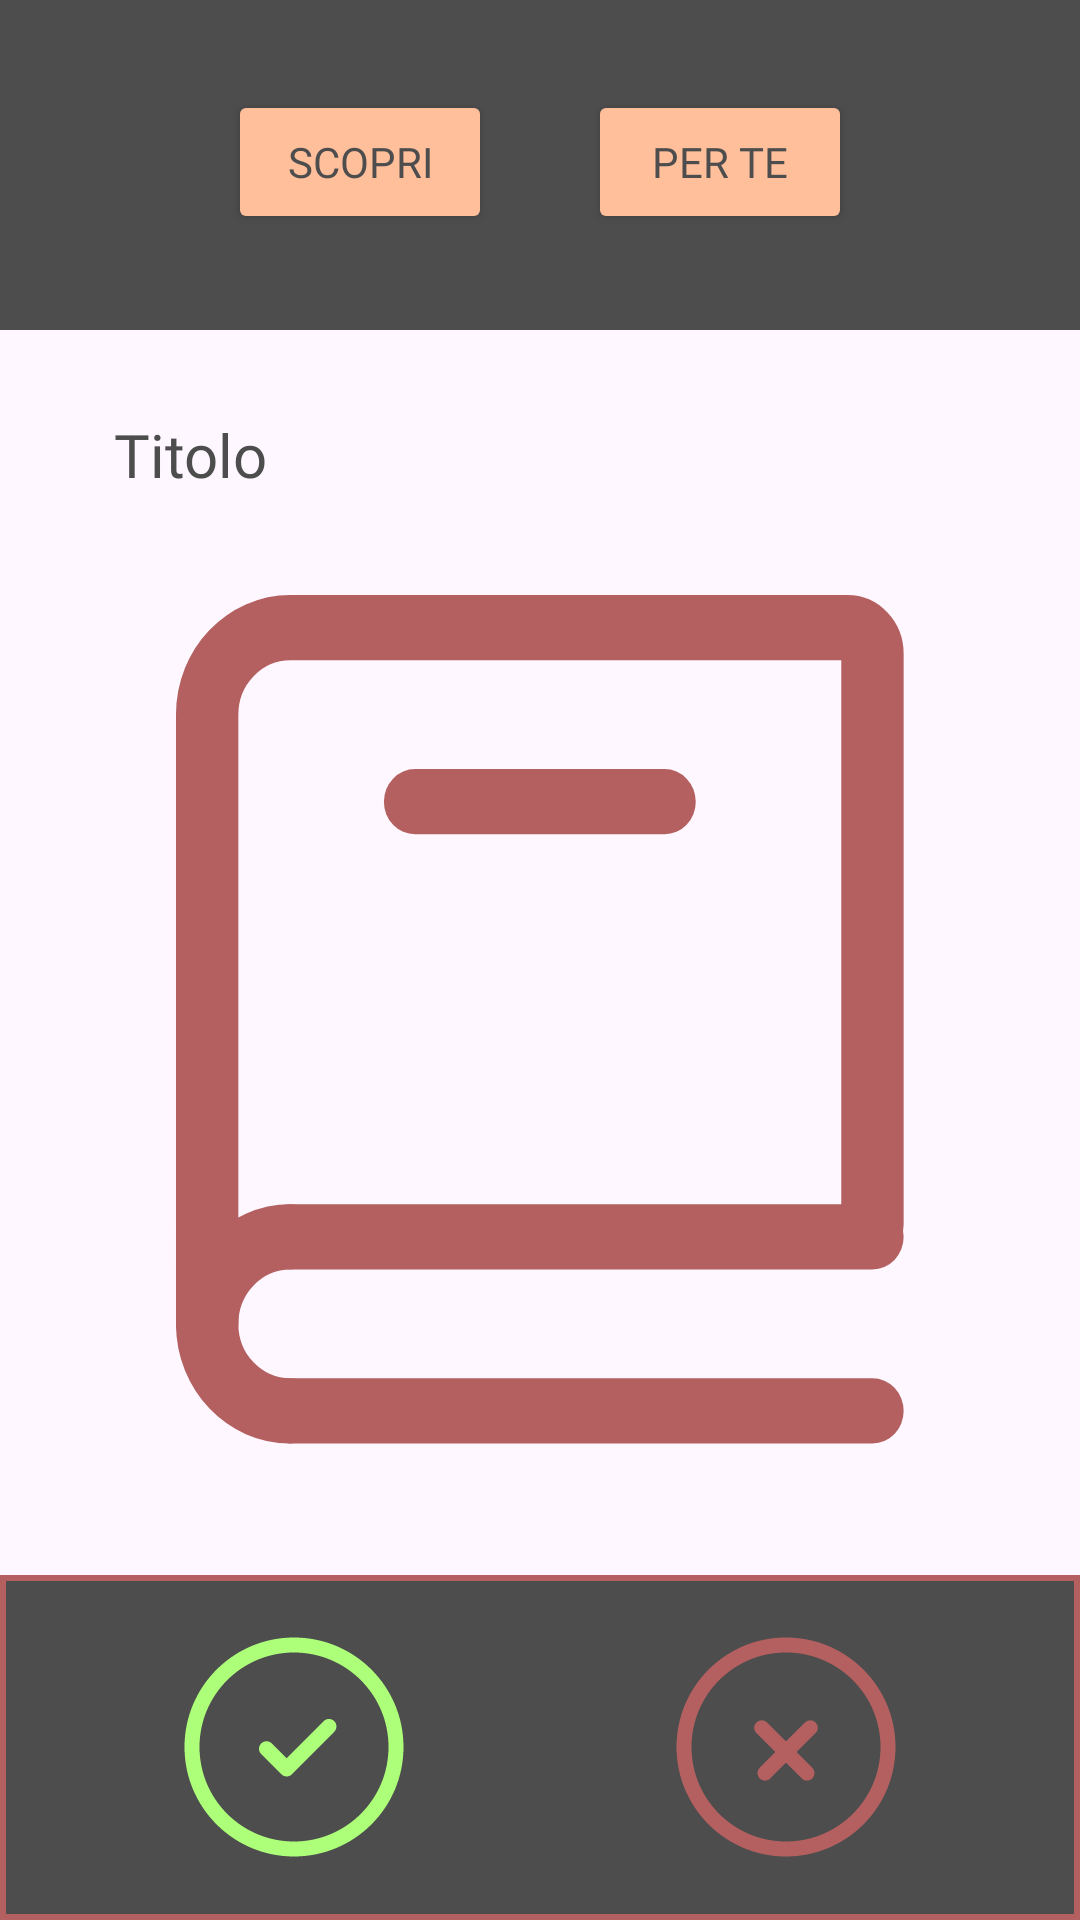

Locate icon controls on the screen. Image size 1080px x 1920px, boxes as rect(x1, y1, x2, y2).
conferma: rect(184, 1637, 404, 1857)
scarta: rect(676, 1637, 896, 1857)
